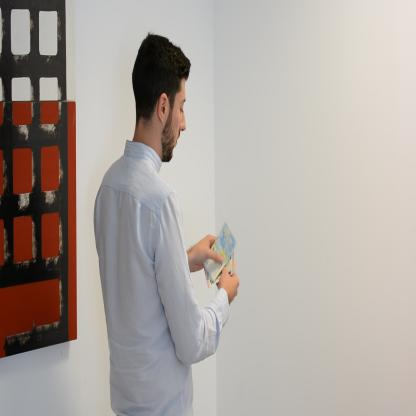billete: (202, 220, 238, 288)
